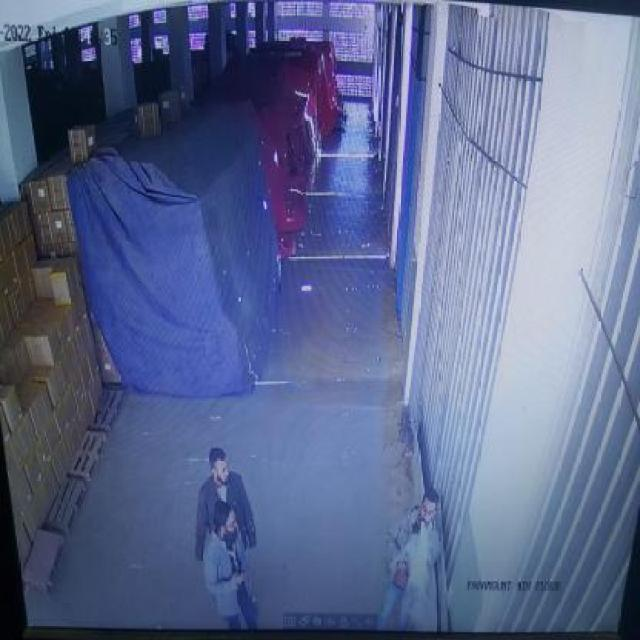fire: (399, 512, 439, 603)
